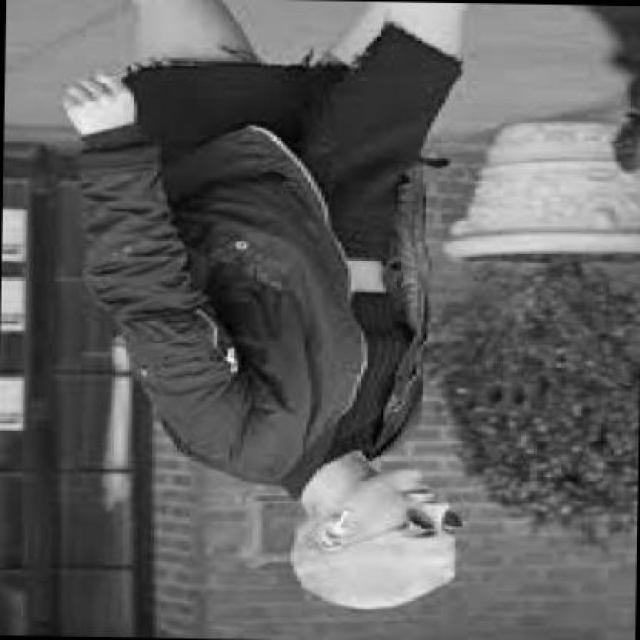earphone: (304, 502, 355, 551)
